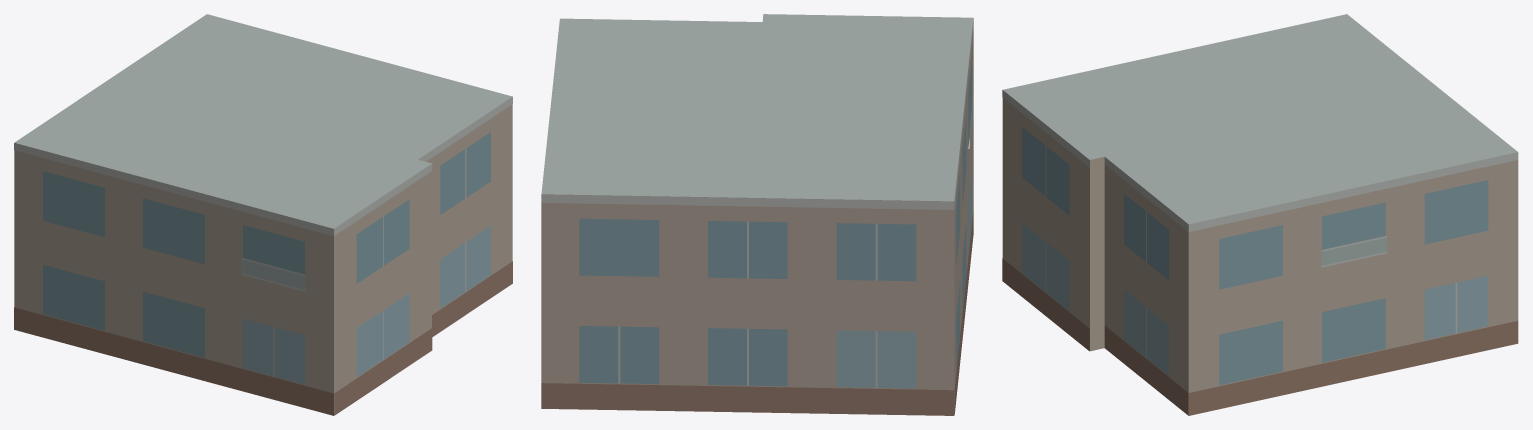
Rendered from survey-upis-32859725.glb.
3 renders of one model, left to right at view 1: azimuth 30°, elevation 25°; view 2: azimuth 150°, elevation 25°; view 3: azimuth 270°, elevation 25°, orthographic. The views are drawn at different scales.
Visible parts, largest first — view 1: survey-upis-32859725.tmp; view 2: survey-upis-32859725.tmp; view 3: survey-upis-32859725.tmp.
Part boxes in pixels (x1,y1,x2,y2): survey-upis-32859725.tmp: (14, 14, 512, 415); survey-upis-32859725.tmp: (541, 14, 973, 415); survey-upis-32859725.tmp: (1002, 14, 1518, 415).
Size of the model in its own units: 14.39 by 6.1 by 14.91.
